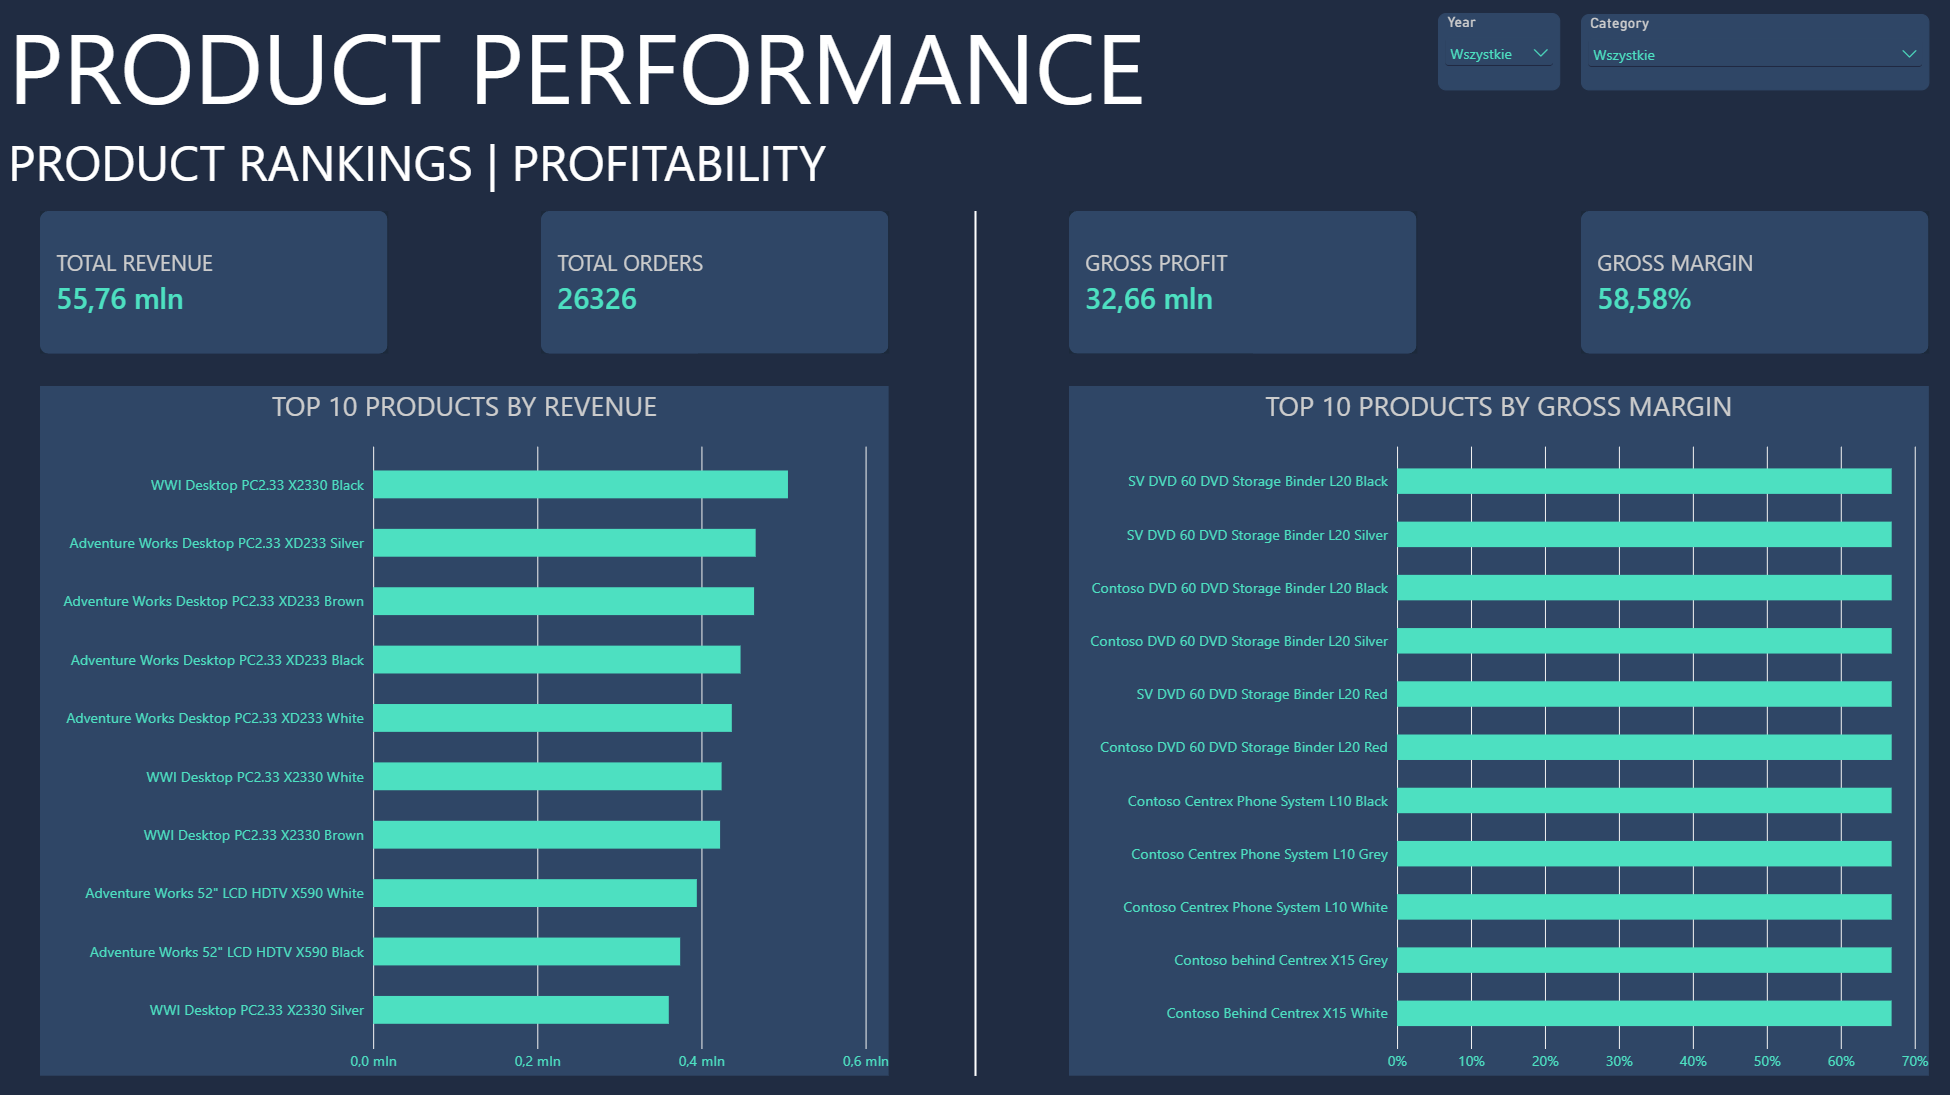

What the dashboard file says about the page in this screenshot:
{"tool":"powerbi","page":{"name":"Product Performance","canvas":[1920,1080],"ordinal":1},"visuals":[{"type":"textbox","box":[9.8,0,1338.9,279.8],"z":0},{"type":"cardVisual","fields":{"Data":["sales.Total_Revenue"]},"box":[41.2,209.1,341.6,140.4],"z":1},{"type":"cardVisual","fields":{"Data":["sales.Total_Orders"]},"box":[533,209.1,341.6,140.4],"z":2},{"type":"cardVisual","fields":{"Data":["sales.Gross_Profit"]},"box":[1051.3,209.1,341.6,140.4],"z":3},{"type":"cardVisual","fields":{"Data":["sales.GROSS_MARGIN"]},"box":[1553.9,209.1,341.6,140.4],"z":4},{"type":"barChart","title":"TOP 10 PRODUCTS BY REVENUE","fields":{"Category":["products.Product_Name"],"Y":["sales.Total_Revenue"]},"box":[41.2,380.9,833.4,677.3],"z":5},{"type":"barChart","title":"TOP 10 PRODUCTS BY GROSS MARGIN","fields":{"Category":["products.Product_Name"],"Y":["sales.Gross_Margin"]},"box":[1051.3,380.9,844.2,677.3],"z":6},{"type":"shape","box":[687.1,209.1,544.8,849.1],"z":8},{"type":"slicer","fields":{"Values":["sales.Order_Date.Odmiana.Hierarchia dat.Rok"]},"box":[1413.5,14.7,120,75.6],"z":9},{"type":"slicer","fields":{"Values":["products.Category"]},"box":[1553.9,15.7,341.6,74.6],"z":10}]}

Visuals, with their boxes in screenshot pixels (x1, y1, x2, y2), scaled from the page's 1920x1080 canvas onto the 1950x1095 screenshot:
textbox: locate(10, 0, 1370, 284)
cardVisual - sales.Total_Revenue: locate(42, 212, 389, 354)
cardVisual - sales.Total_Orders: locate(541, 212, 888, 354)
cardVisual - sales.Gross_Profit: locate(1068, 212, 1415, 354)
cardVisual - sales.GROSS_MARGIN: locate(1578, 212, 1925, 354)
"TOP 10 PRODUCTS BY REVENUE" barChart: locate(42, 386, 888, 1073)
"TOP 10 PRODUCTS BY GROSS MARGIN" barChart: locate(1068, 386, 1925, 1073)
shape: locate(698, 212, 1251, 1073)
slicer - sales.Order_Date.Odmiana.Hierarchia dat.Rok: locate(1436, 15, 1557, 92)
slicer - products.Category: locate(1578, 16, 1925, 92)
